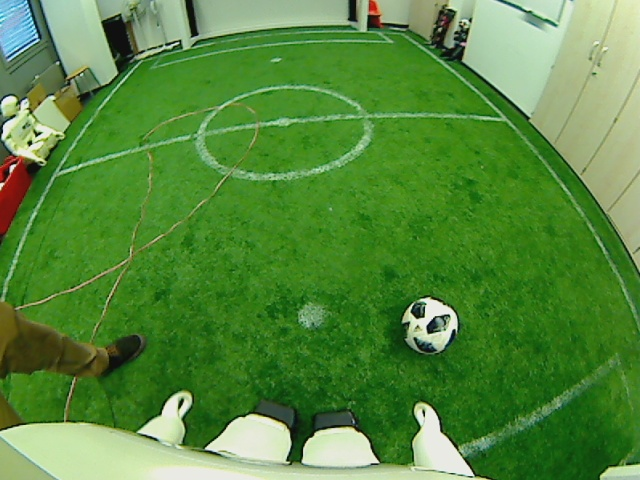ball: (399, 293, 458, 357)
